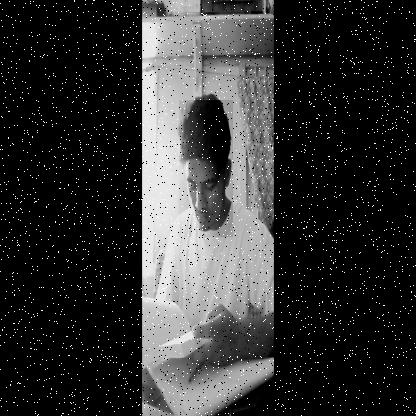Distracted: (178, 100, 233, 237)
